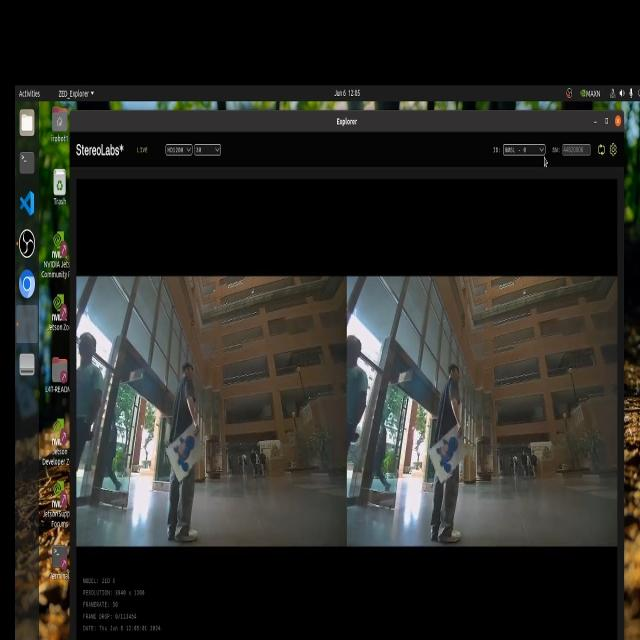blue: (170, 428, 190, 476), (439, 438, 457, 480)
